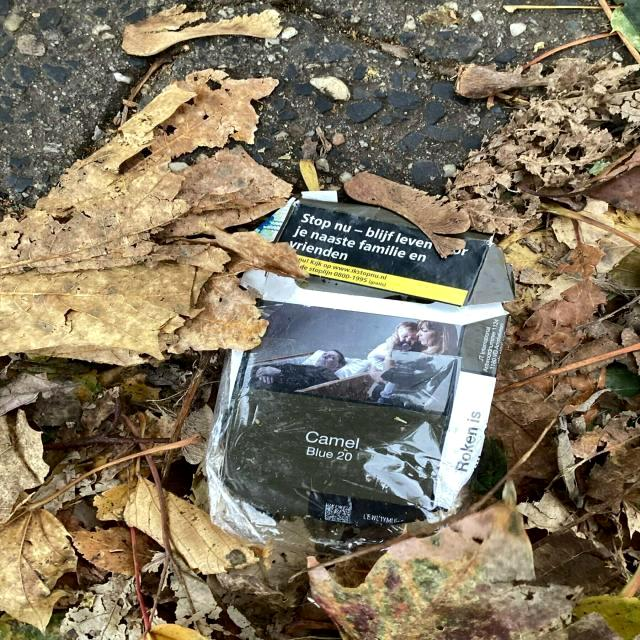Paper: (196, 186, 518, 562)
